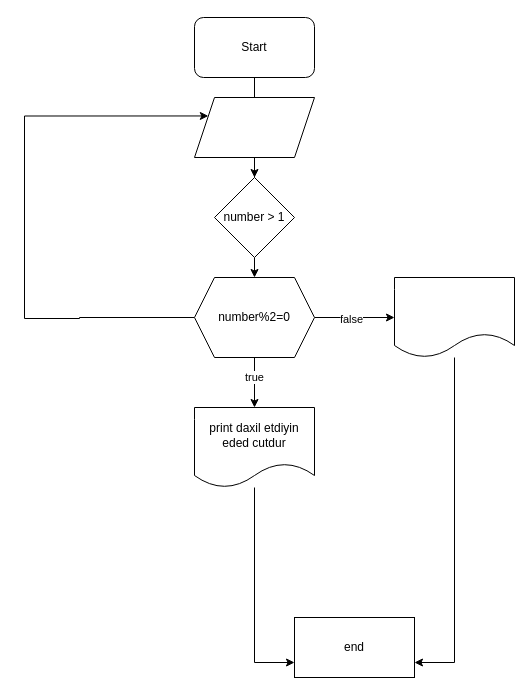
The diagram is 532 pixels wide and 695 high, and some of its shapes have lost their labels. The shapes that lost their labels are listed below. From the top down, each one's box as (x1, y1, x2, y2) in pixels, then its label:
(194, 96, 314, 158): int number
(394, 276, 514, 358): daxil etdiyin eded tekdir
